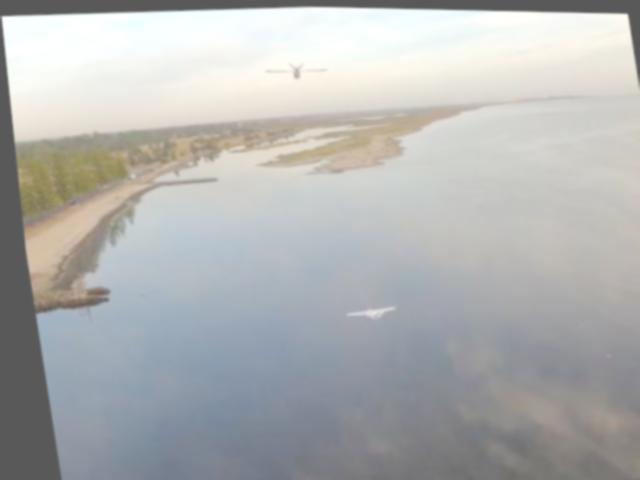uav: (261, 57, 328, 80), (336, 301, 392, 321)
